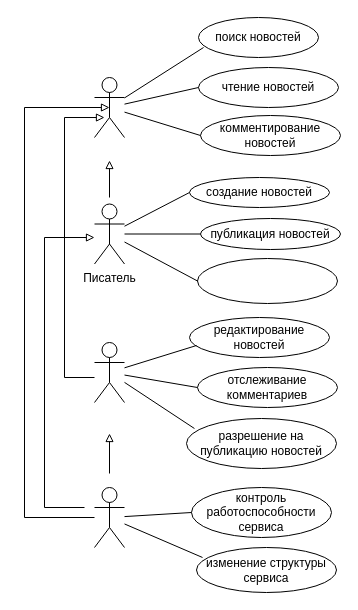
This 358x610 diagram has some shape labels left out. Each missing label, with the centre of its shape:
"Администратор" belongs at point (109, 517).
"передача новостей на редактирование" belongs at point (267, 281).
"Редактор" belongs at point (109, 372).
"Читатель" belongs at point (109, 107).
